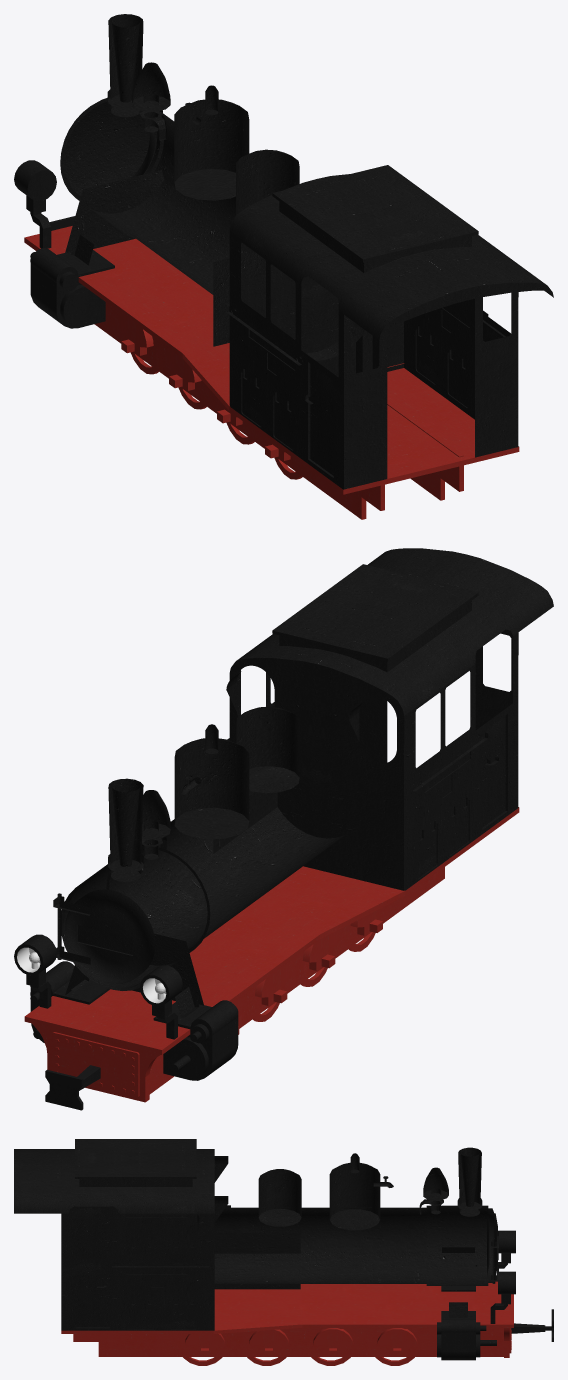
The model's file is gltf_mpsb_12.gltf.
3 renders of one model, top to bottom at view 1: azimuth 30°, elevation 25°; view 2: azimuth 150°, elevation 25°; view 3: azimuth 270°, elevation 25°, orthographic. The views are drawn at different scales.
Parts seen in each view (by area): view 1: Cabin, SteamChamber, BottomPlatform, FrontLights, WheelFeathering, CabinDecoration; view 2: Cabin, SteamChamber, BottomPlatform, FrontLights, SteamChangerFront, WheelFeathering, CabinDecoration, FrontBuffer; view 3: Cabin, SteamChamber, BottomPlatform, WheelFeathering, FrontLights, CabinDecoration, SteamChangerFront, FrontBuffer.
Part boxes in pixels (box(x1,y1,x2,y2)): Cabin: box(229, 165, 553, 489); SteamChamber: box(60, 14, 379, 373); BottomPlatform: box(24, 226, 519, 519); FrontLights: box(14, 160, 114, 328); WheelFeathering: box(117, 313, 302, 479); CabinDecoration: box(226, 306, 488, 450); Cabin: box(229, 548, 553, 890); SteamChamber: box(61, 706, 349, 1017); BottomPlatform: box(24, 807, 519, 1102); FrontLights: box(14, 934, 238, 1080); SteamChangerFront: box(53, 889, 155, 984); WheelFeathering: box(233, 905, 387, 1034); CabinDecoration: box(226, 671, 498, 879); FrontBuffer: box(45, 1065, 100, 1110); Cabin: box(14, 1139, 214, 1330); SteamChamber: box(197, 1147, 497, 1317); BottomPlatform: box(61, 1281, 513, 1357); WheelFeathering: box(183, 1328, 417, 1365); FrontLights: box(437, 1230, 515, 1360); CabinDecoration: box(97, 1156, 228, 1329); SteamChangerFront: box(487, 1213, 498, 1283); FrontBuffer: box(511, 1309, 553, 1341).
Size of the model in its own units: 2.86 by 4.33 by 10.56.
